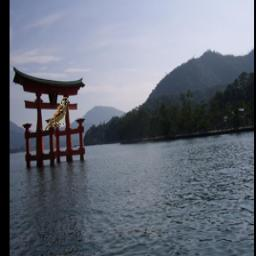Sparrow: (44, 98, 68, 131)
